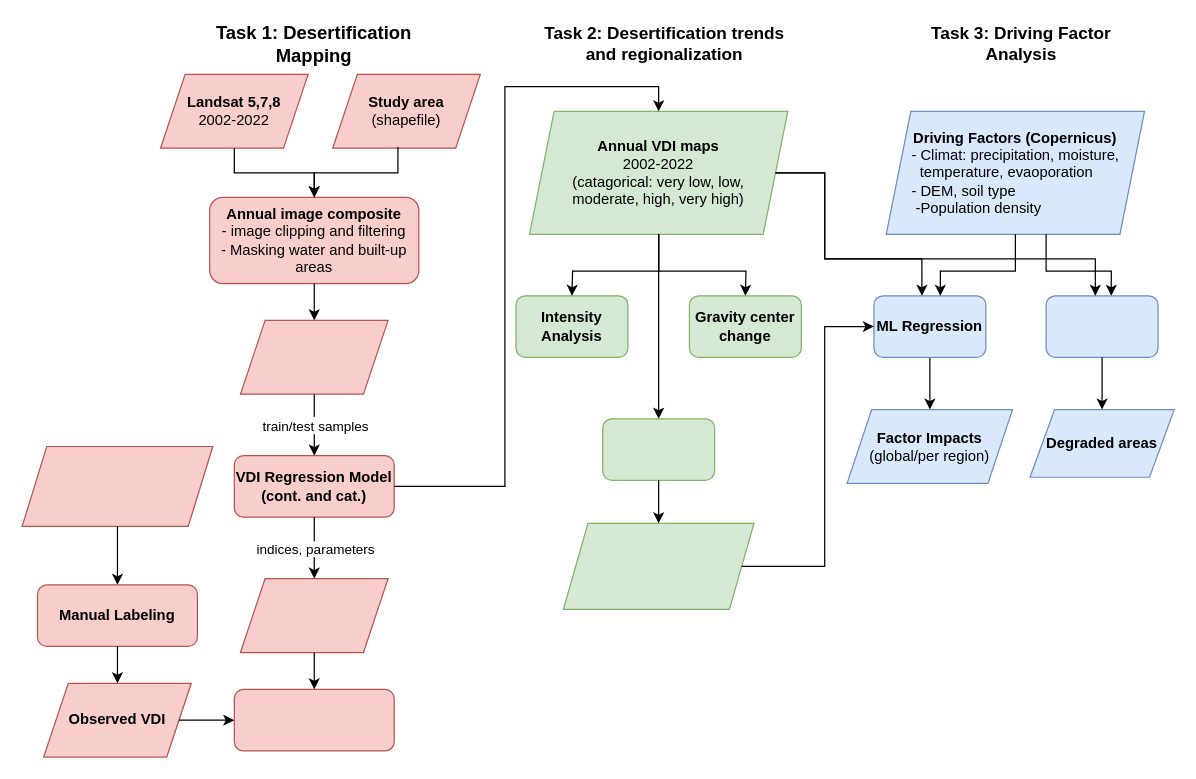
This 1196x779 diagram has some shape labels left out. The shapes that lost their labels are listed below. From the top down, each one's centre as x and y in pixels, then its label:
pixel 1101 326: RESTREND
pixel 313 356: Annual NDVI, MSAVI, TGSI, albedo maps
pixel 658 449: Regionalization (time series VDI)
pixel 117 485: High resolution images (Google Earth Pro)
pixel 658 565: Steppic Regions with different profiles
pixel 313 615: predicted VDI (testing set)
pixel 313 719: Validation
